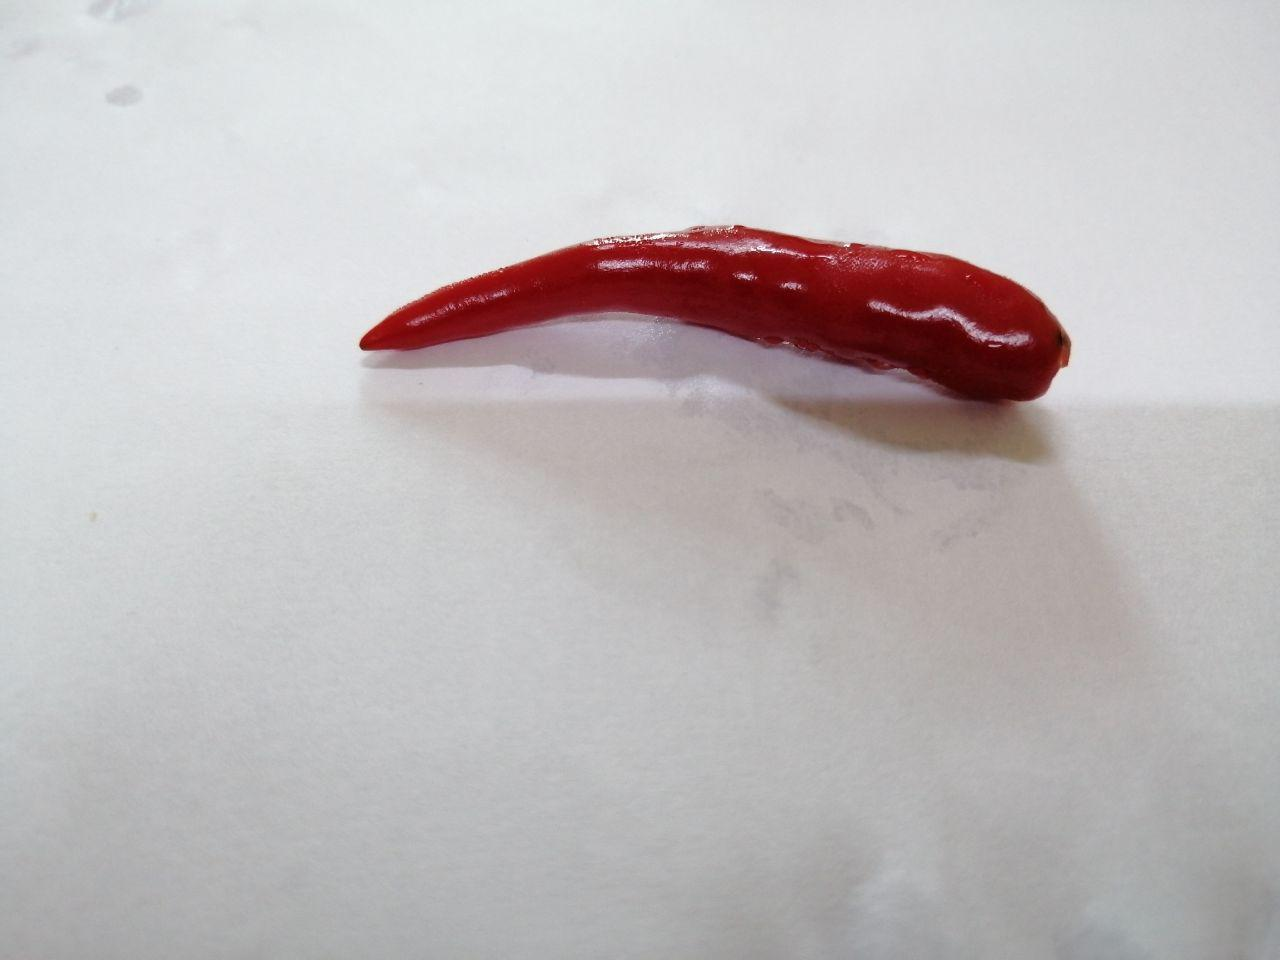lada merah: (316, 197, 1097, 483)
